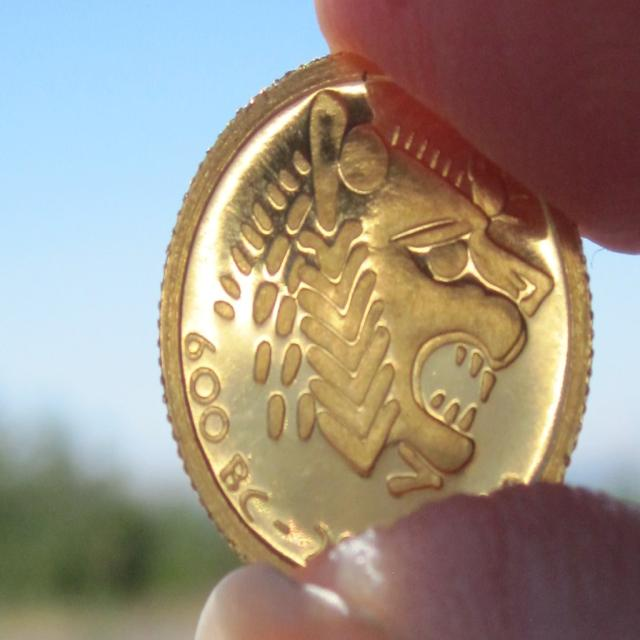Coin: (152, 46, 594, 582)
